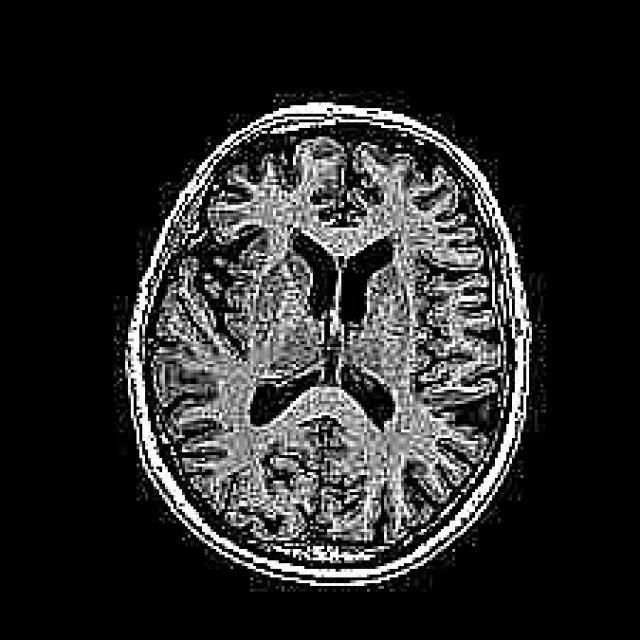notumor: (125, 105, 529, 583)
